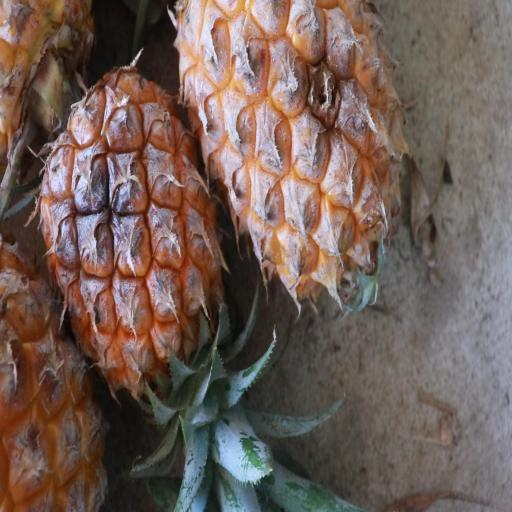Pineapple - v8 v1: (164, 0, 404, 327), (37, 64, 229, 469)
